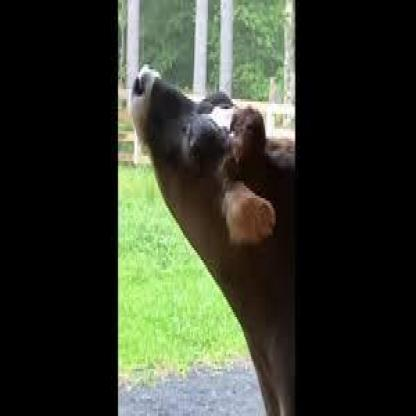cow: (130, 62, 296, 416)
